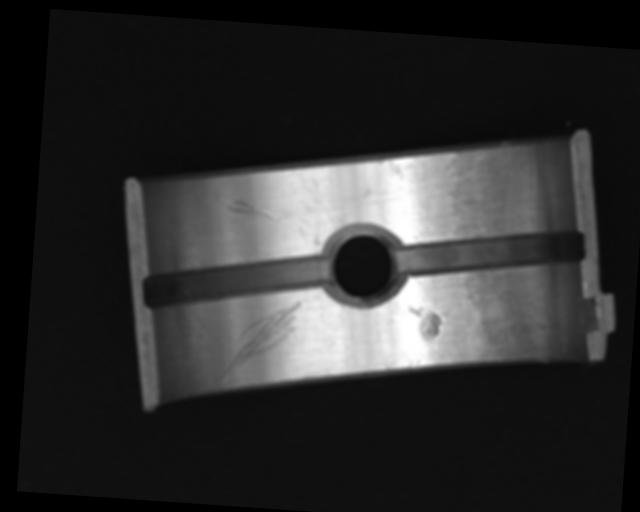bruise: (406, 305, 444, 341)
gap: (142, 244, 331, 318), (396, 218, 585, 282)
hole: (322, 221, 406, 311)
nick: (221, 294, 300, 387), (225, 197, 286, 224)
